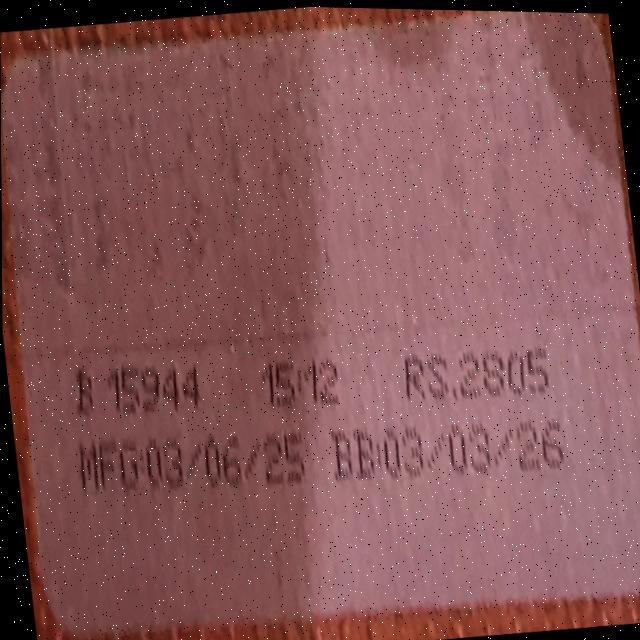BB: (330, 398, 589, 534)
Batch: (66, 338, 206, 425)
MFG: (71, 408, 317, 521), (256, 338, 351, 425)
RS: (392, 323, 563, 425)
